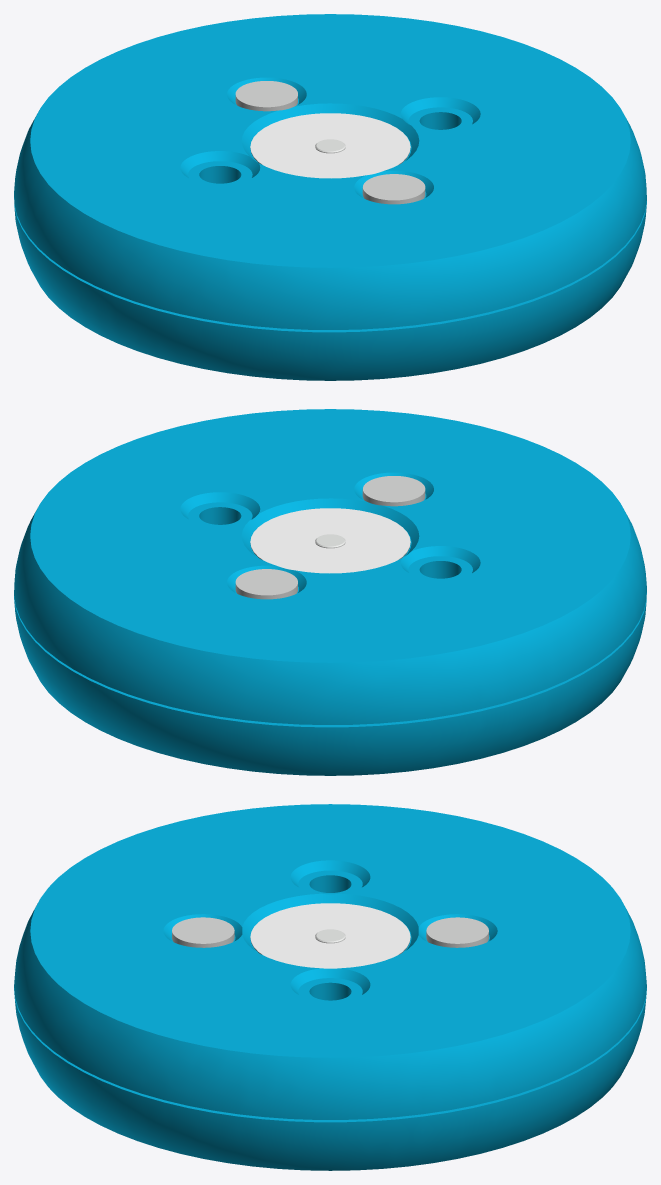
3 views of the same model, one above another, from view 1: azimuth 30°, elevation 25°; view 2: azimuth 150°, elevation 25°; view 3: azimuth 270°, elevation 25° (orthographic).
Visible parts, largest first — view 1: main_0077c8, cad_ffffff, cad_b2b4b2; view 2: main_0077c8, cad_ffffff, cad_b2b4b2; view 3: main_0077c8, cad_ffffff, cad_b2b4b2.
Part boxes in pixels (left/top/right/bottom): main_0077c8: left=14, top=14, right=646, bottom=380; cad_ffffff: left=250, top=113, right=410, bottom=178; cad_b2b4b2: left=235, top=81, right=425, bottom=204; main_0077c8: left=14, top=409, right=646, bottom=775; cad_ffffff: left=250, top=508, right=410, bottom=573; cad_b2b4b2: left=235, top=476, right=425, bottom=599; main_0077c8: left=14, top=804, right=646, bottom=1170; cad_ffffff: left=250, top=903, right=410, bottom=968; cad_b2b4b2: left=172, top=917, right=488, bottom=947.
Size of the model in its own units: 63.14 by 12.49 by 63.2.
